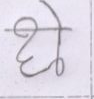e_matra: (37, 0, 66, 26)
